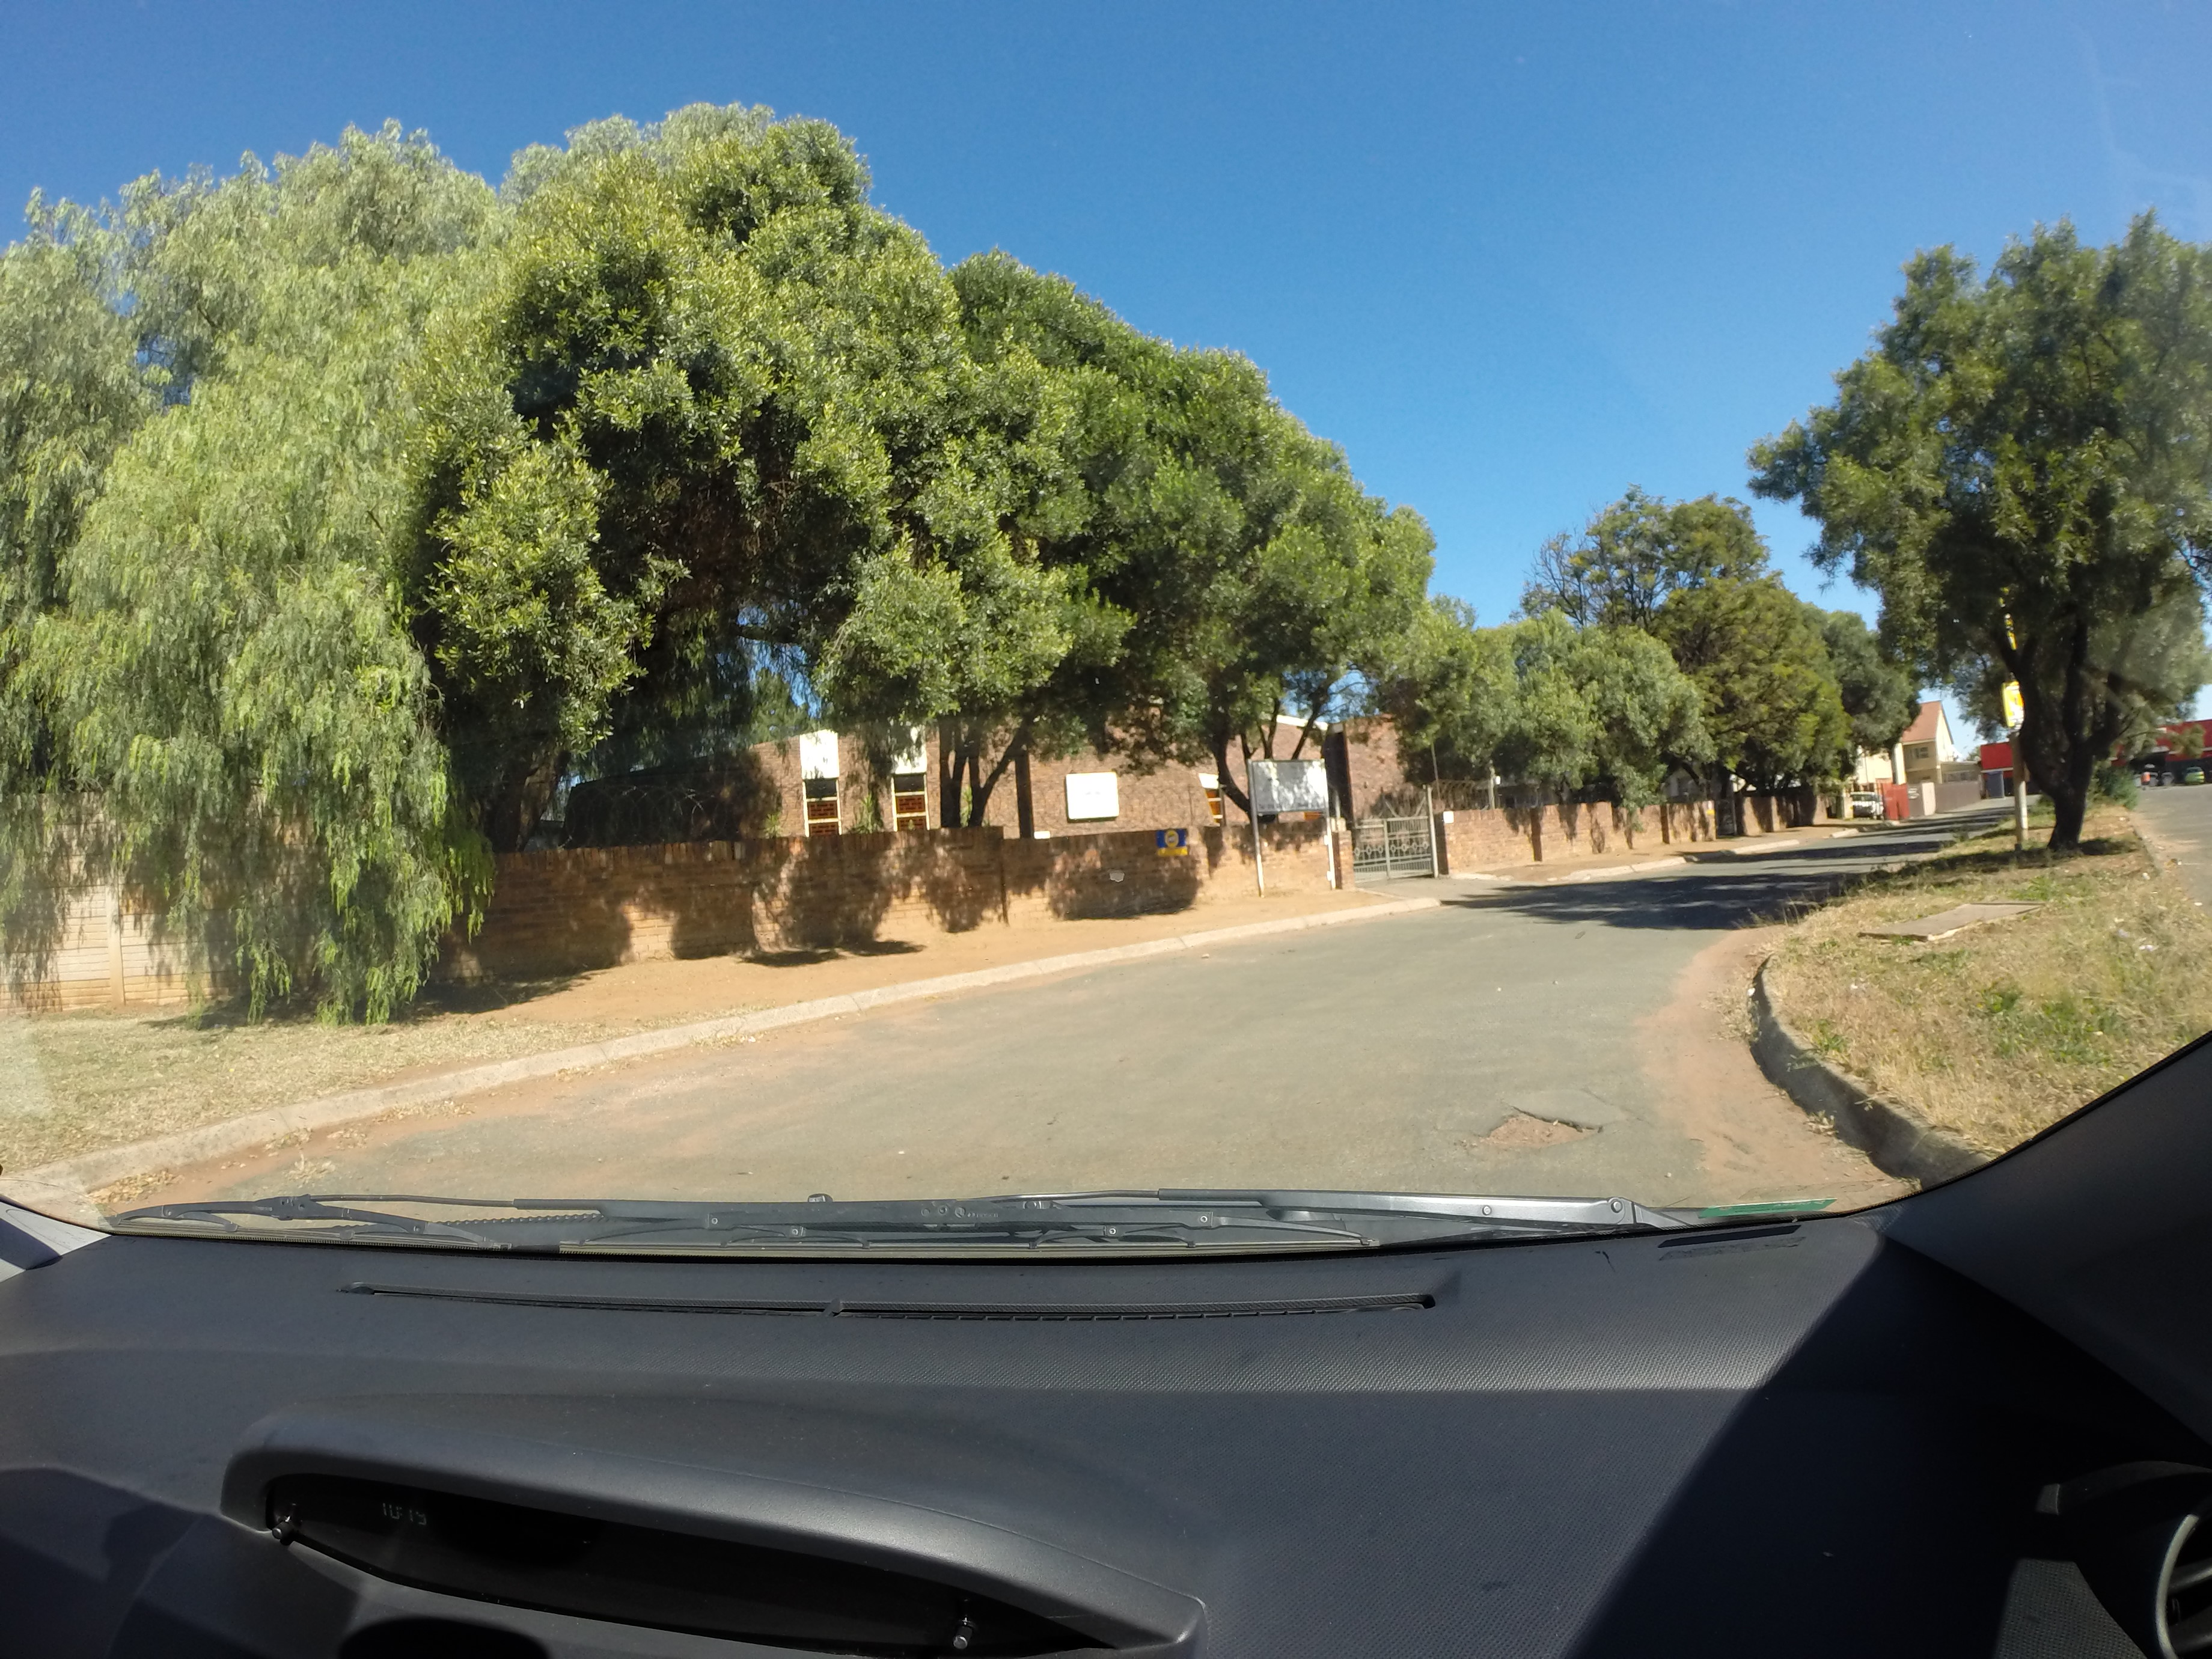pothole: (1458, 1075, 1623, 1173)
